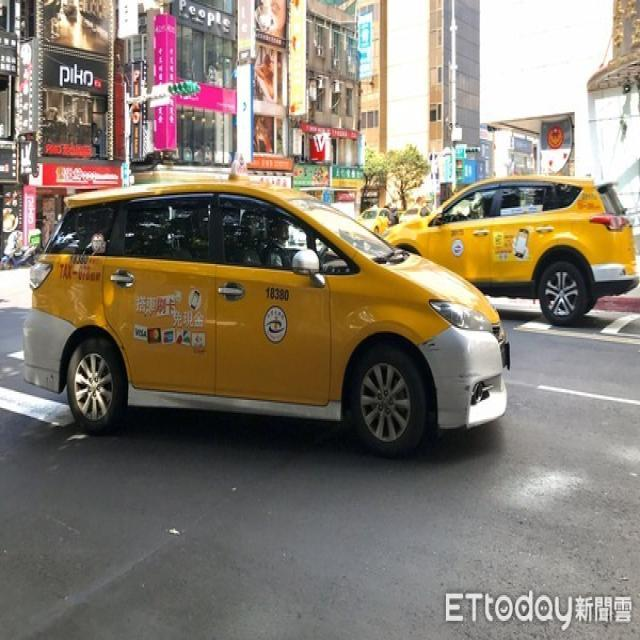taxi: (34, 147, 524, 475), (352, 140, 640, 326)
